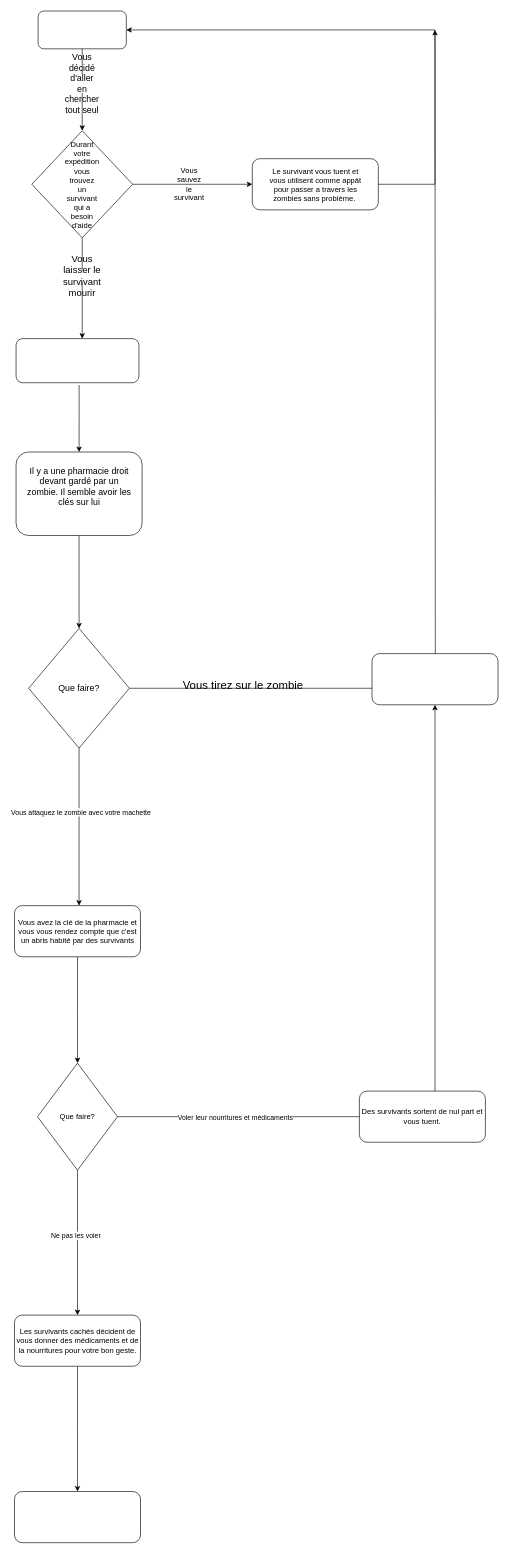
The diagram is 509 pixels wide and 1554 high, and some of its shapes have lost their labels. The shapes that lost their labels are listed below. From the top down, each one's centre as x and y in pixels, then its label:
At point (81, 29): "Le camp commence a manquer de nourritures et de médicaments.".
At point (77, 360): "Les zombies se régalent et vous pouvez passer sans problème".
At point (434, 679): "Le bruit attire les zombies proche de la pharmacie et vous mourrez.".
At point (77, 1517): "Vous retournez dans votre camp avec des médicaments et de la nourriture. Fin".
